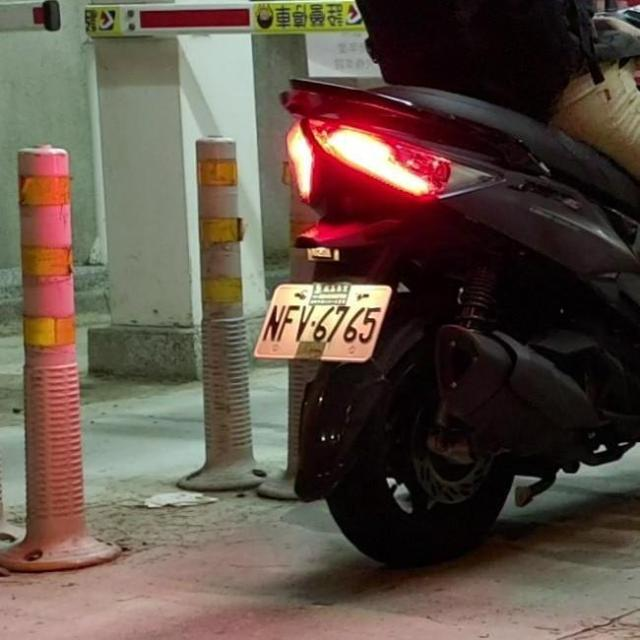W: (252, 262, 397, 372)
